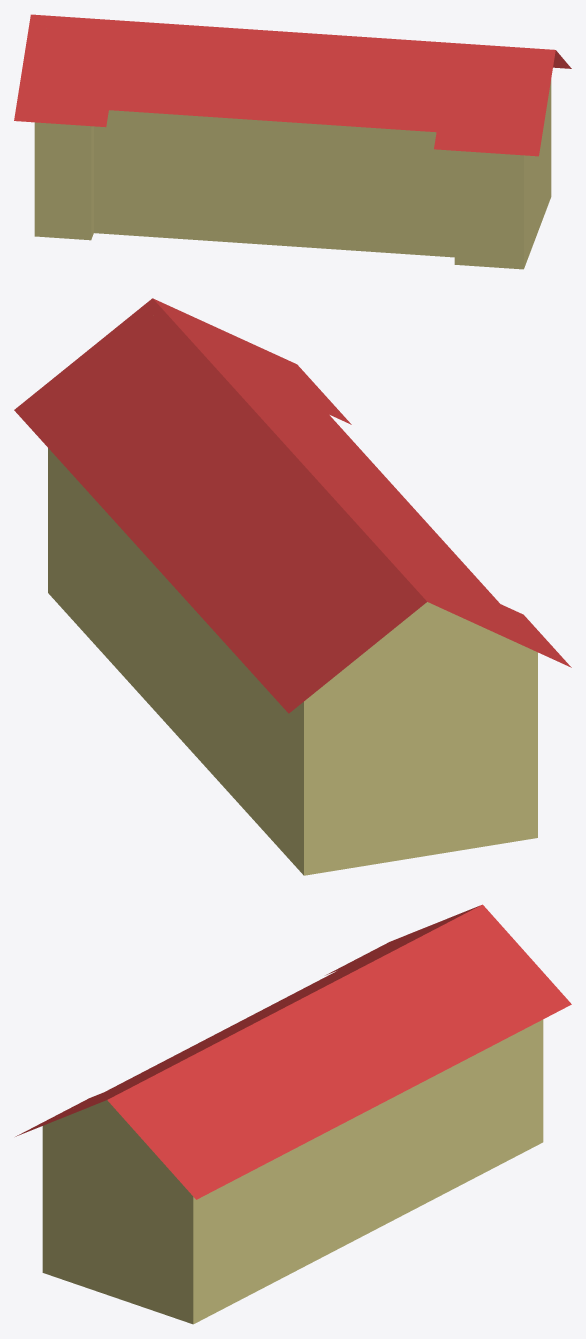
3 renders of one model, top to bottom at view 1: azimuth 30°, elevation 25°; view 2: azimuth 150°, elevation 25°; view 3: azimuth 270°, elevation 25°, orthographic. The views are drawn at different scales.
Visible parts, largest first — view 1: group_5, group_3, group_4; view 2: group_5, group_3, group_4; view 3: group_5, group_3, group_4.
Boxes of the visible parts, bbox=[...] form: group_5: bbox=[34, 79, 551, 269]; group_3: bbox=[14, 15, 555, 156]; group_4: bbox=[31, 14, 571, 156]; group_5: bbox=[48, 448, 537, 875]; group_3: bbox=[14, 298, 571, 712]; group_4: bbox=[102, 298, 527, 713]; group_5: bbox=[42, 1019, 543, 1324]; group_3: bbox=[44, 904, 569, 1199]; group_4: bbox=[15, 905, 571, 1183].
Bounding box in the file's own units: 29.97 × 27.38 × 11.15.
